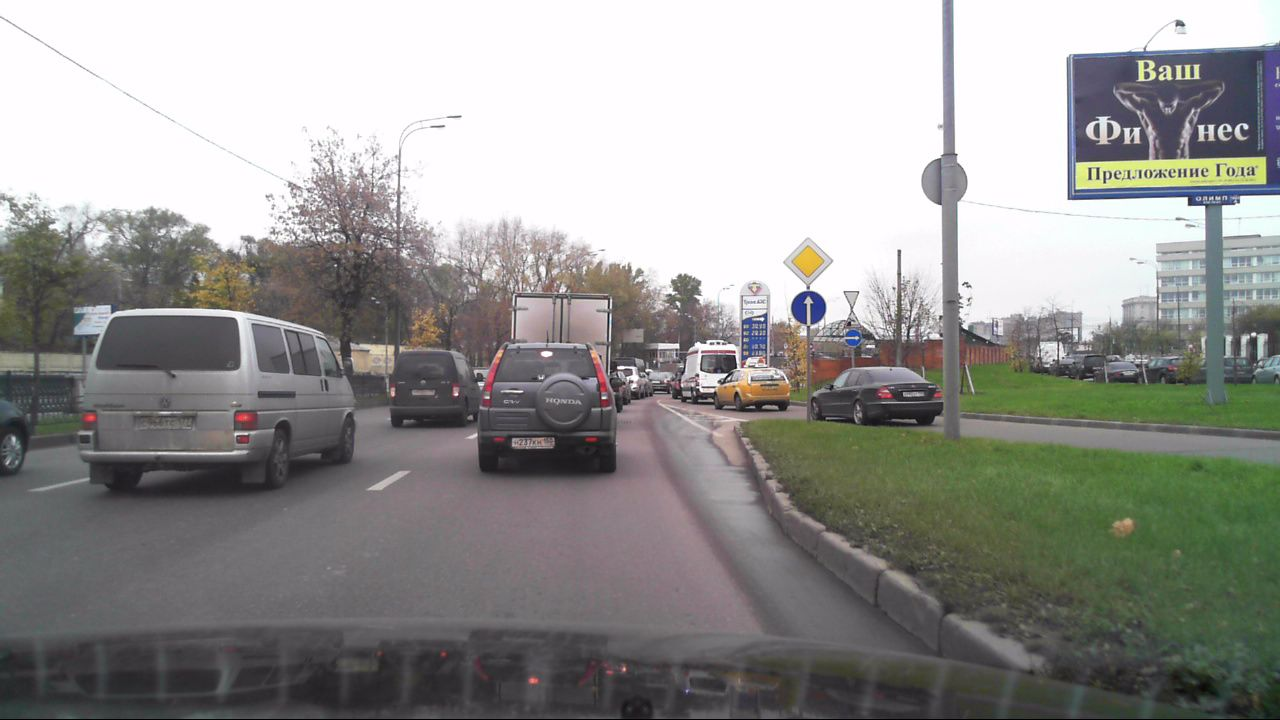Turn Right: (844, 330, 861, 346)
